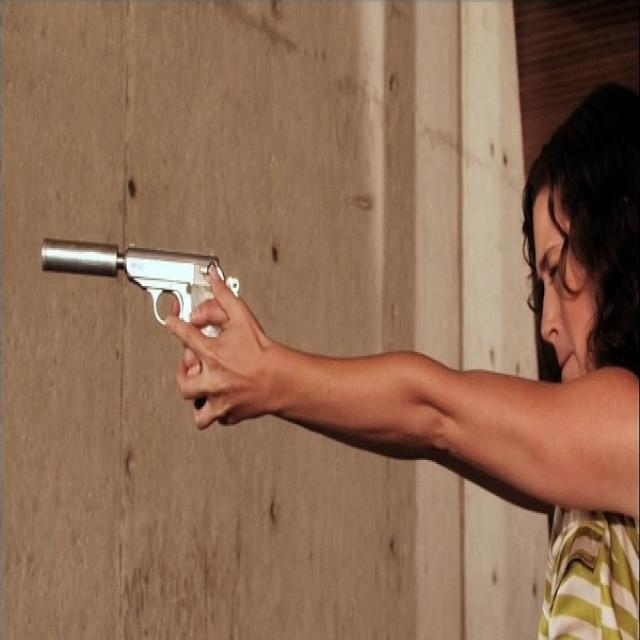weapons: (34, 206, 260, 428)
